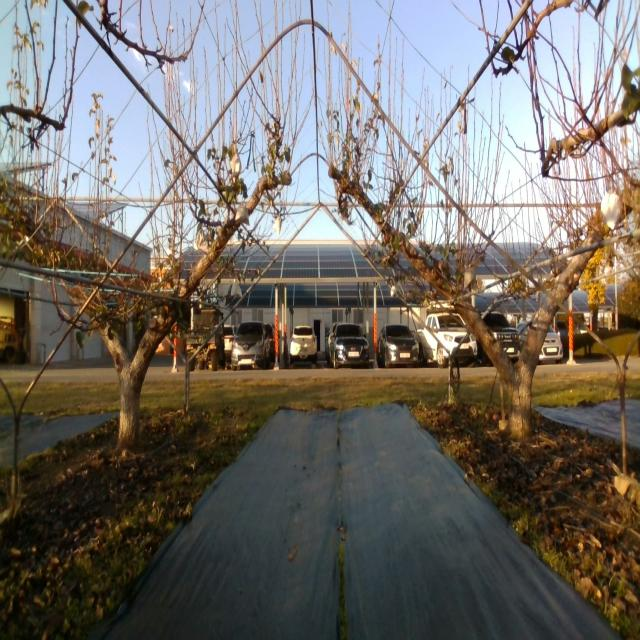pearbags: (601, 193, 621, 229), (235, 204, 250, 226), (196, 229, 208, 254), (230, 153, 242, 178), (464, 268, 476, 289)
